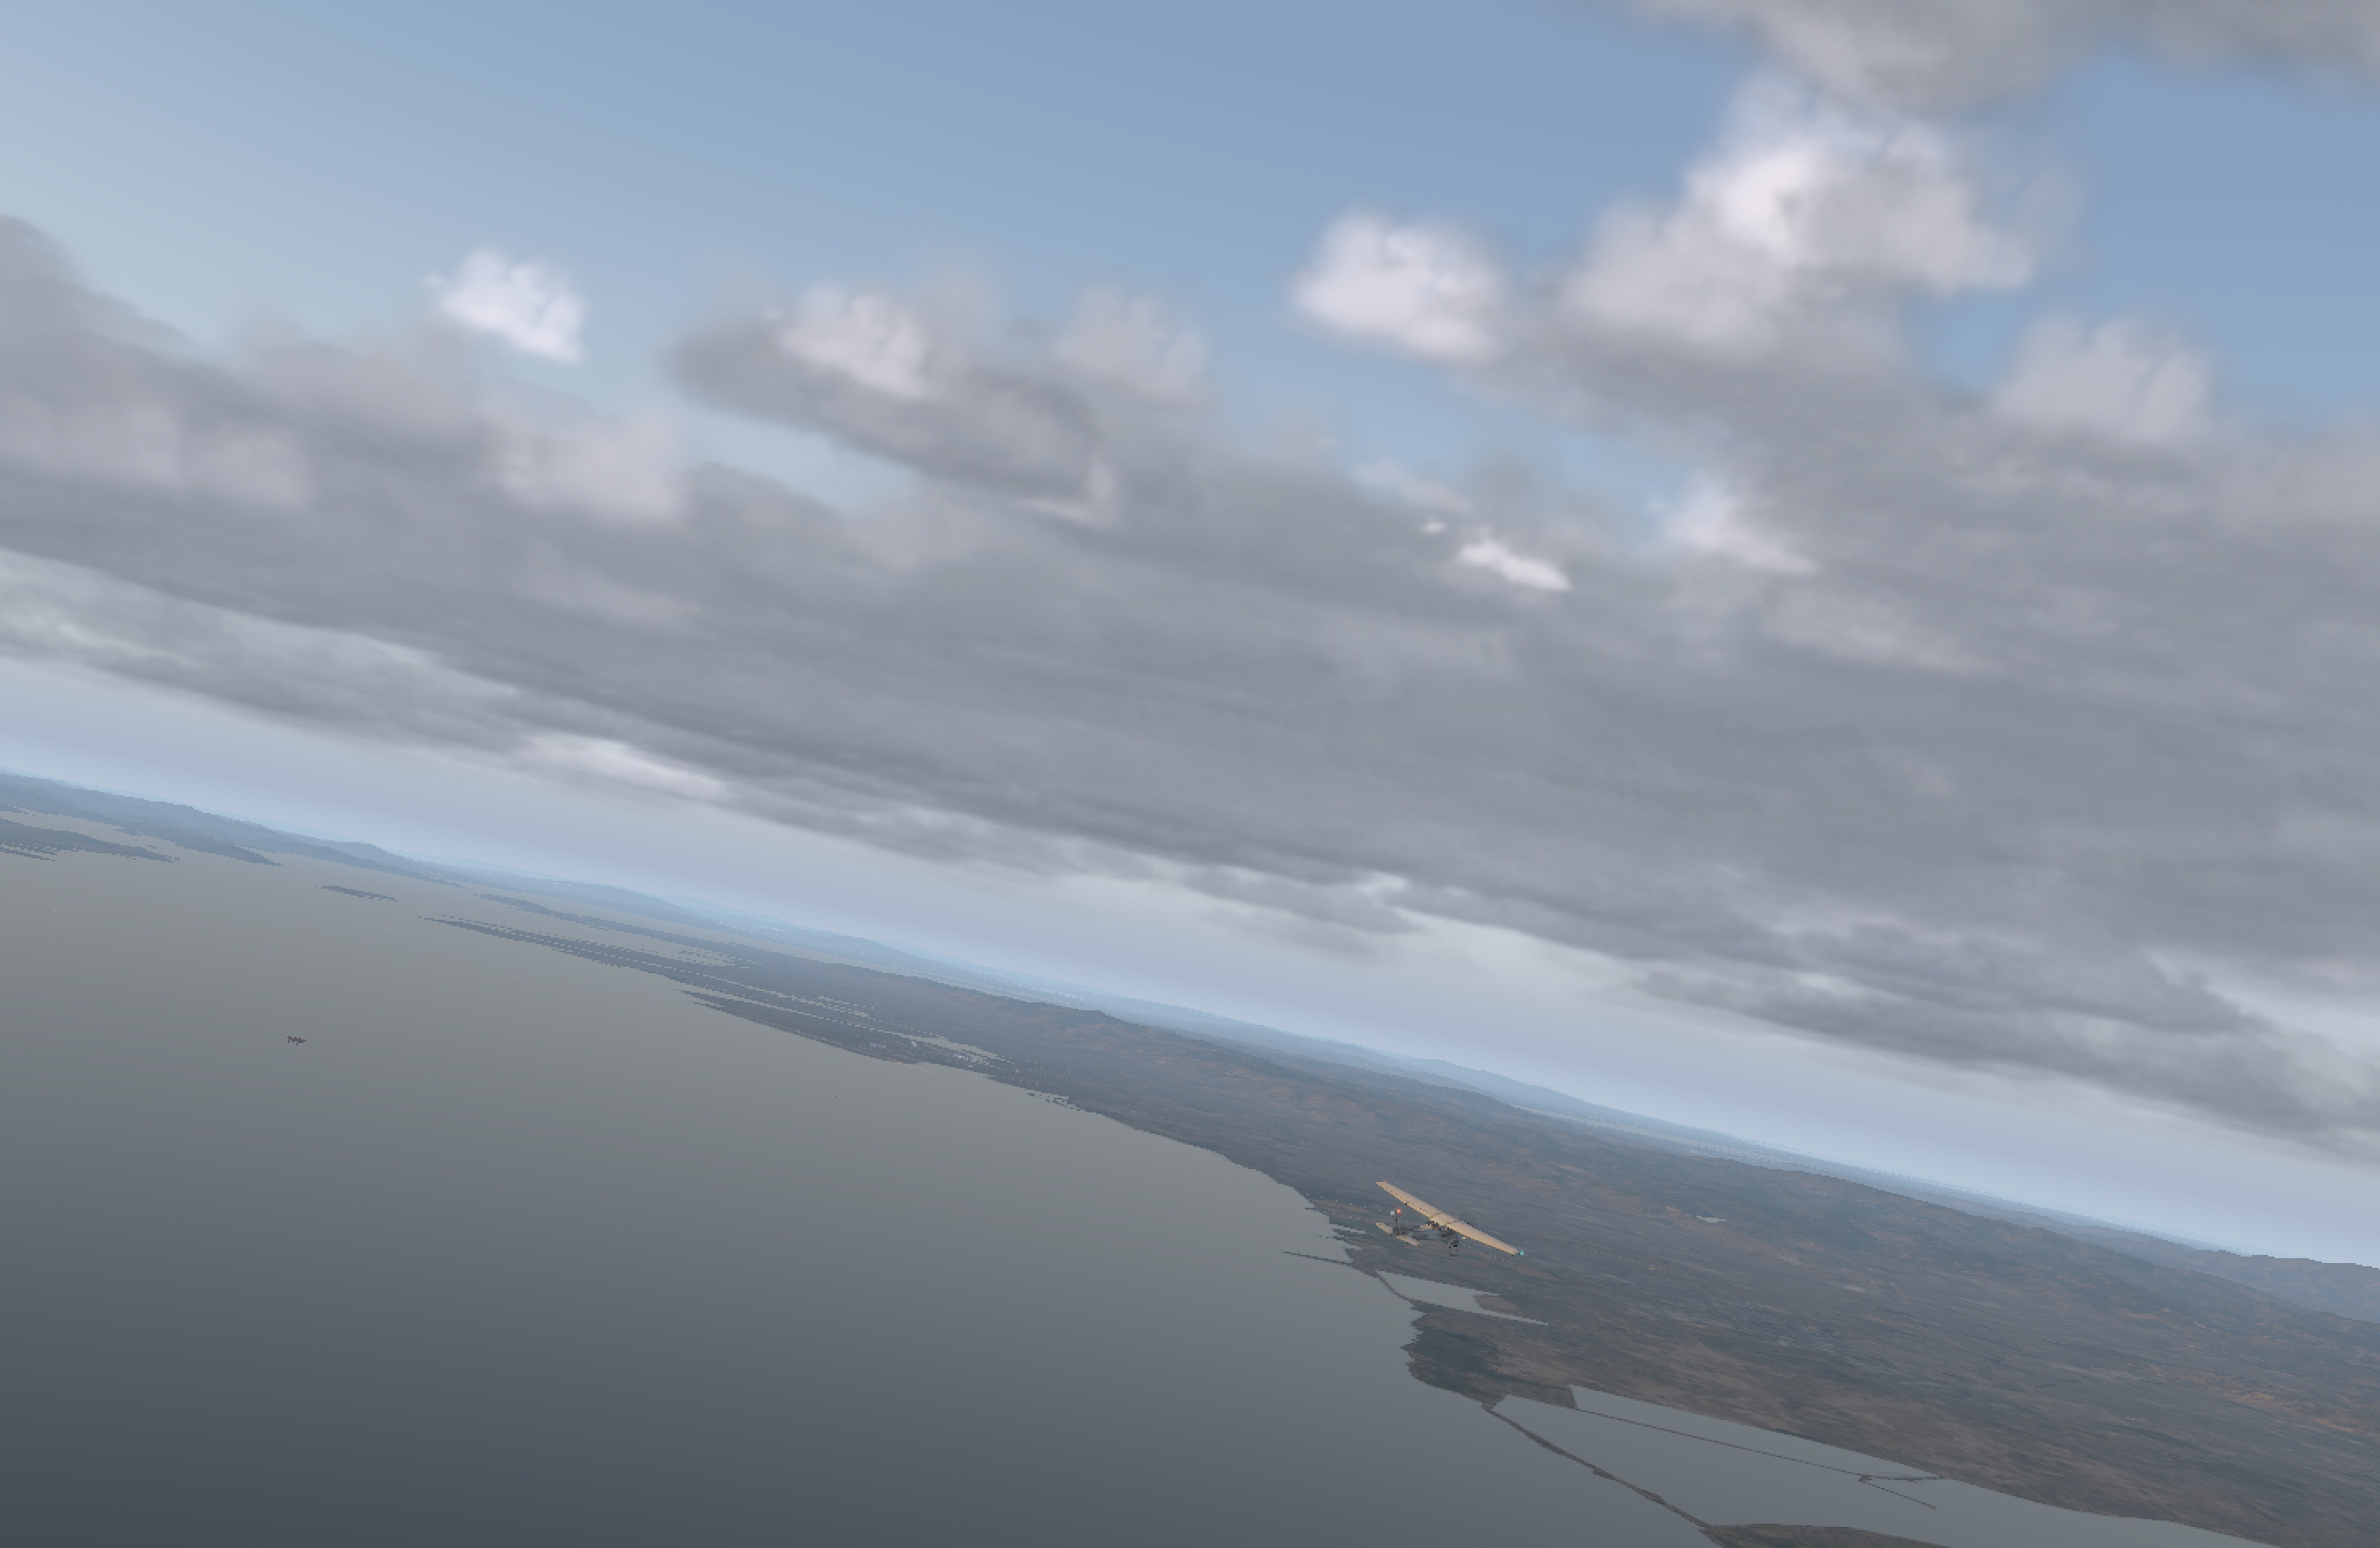aircraft: (1383, 1204, 1509, 1251)
